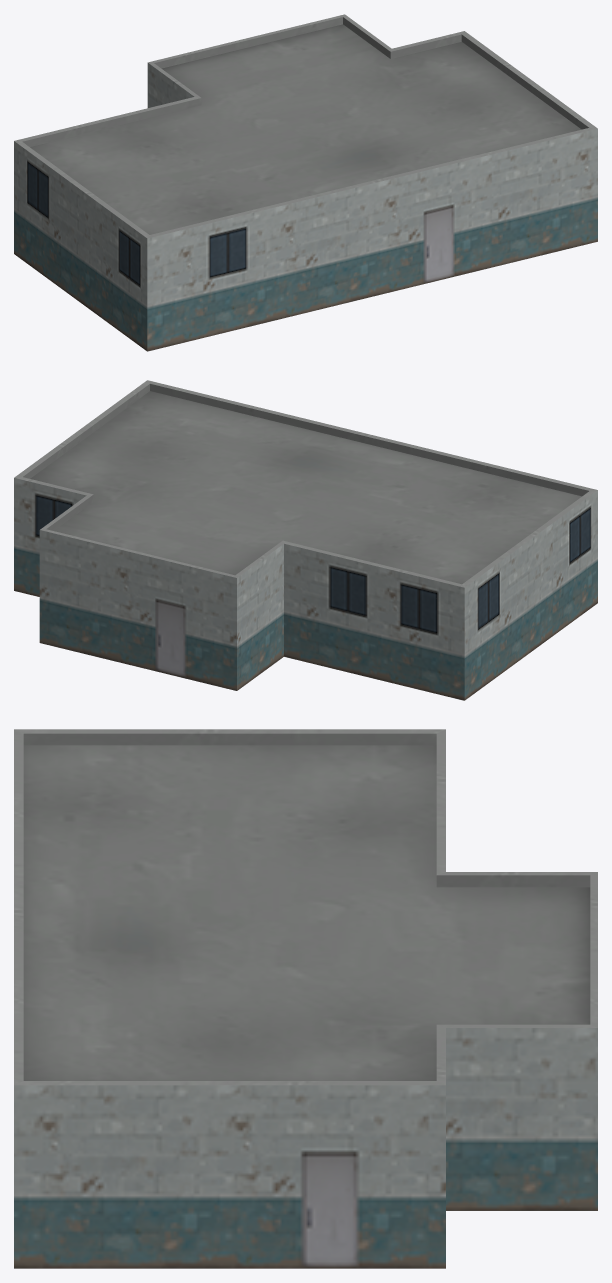
The model's file is House_1.fbx.
3 renders of one model, top to bottom at view 1: azimuth 30°, elevation 25°; view 2: azimuth 150°, elevation 25°; view 3: azimuth 270°, elevation 25°, orthographic. The views are drawn at different scales.
Parts seen in each view (by area): view 1: House_1; view 2: House_1; view 3: House_1.
Part boxes in pixels (x1,y1,x2,y2): House_1: (14,14,597,351); House_1: (14,380,597,700); House_1: (14,729,597,1268).
Size of the model in its own units: 1067 by 256 by 740.
